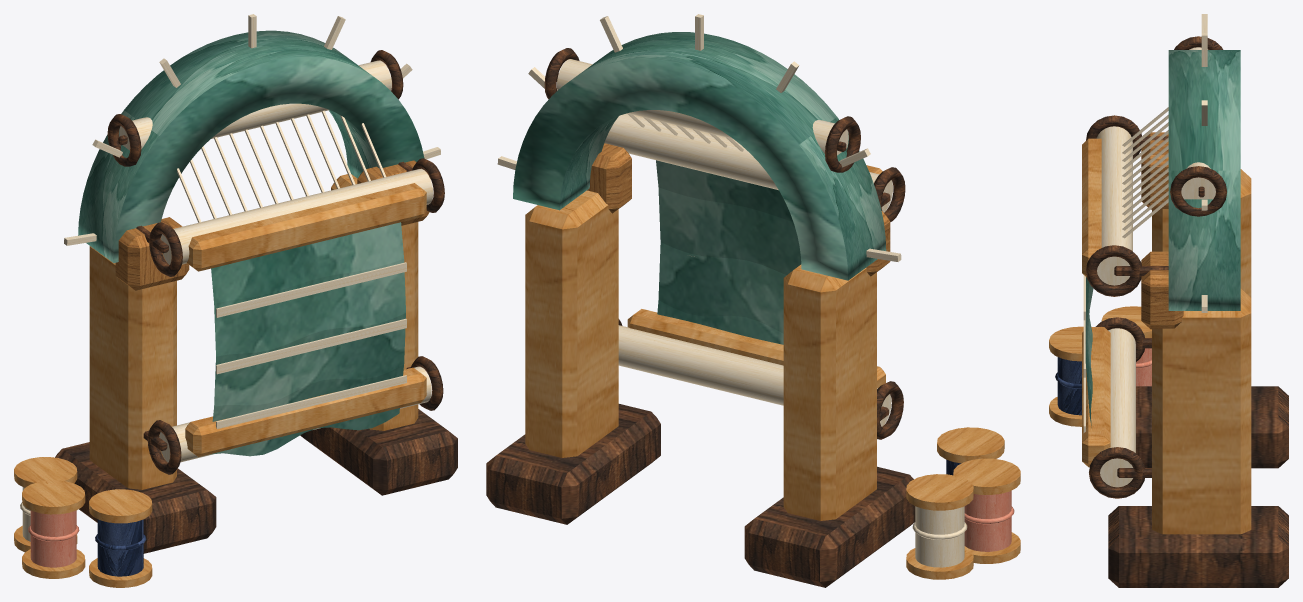
File: revised-07-04.glb
3 views of the same model, side by side, from view 1: azimuth 30°, elevation 25°; view 2: azimuth 150°, elevation 25°; view 3: azimuth 270°, elevation 25° (orthographic). The views are drawn at different scales.
Parts seen in each view (by area): view 1: sundial_loom; view 2: sundial_loom; view 3: sundial_loom.
Boxes of the visible parts, left/top/right/bottom form: sundial_loom: left=14, top=14, right=457, bottom=587; sundial_loom: left=486, top=14, right=1020, bottom=587; sundial_loom: left=1049, top=14, right=1288, bottom=587.
Bounding box in the file's own units: 1.75 × 1.75 × 0.797.
1 material, 1 textured.
